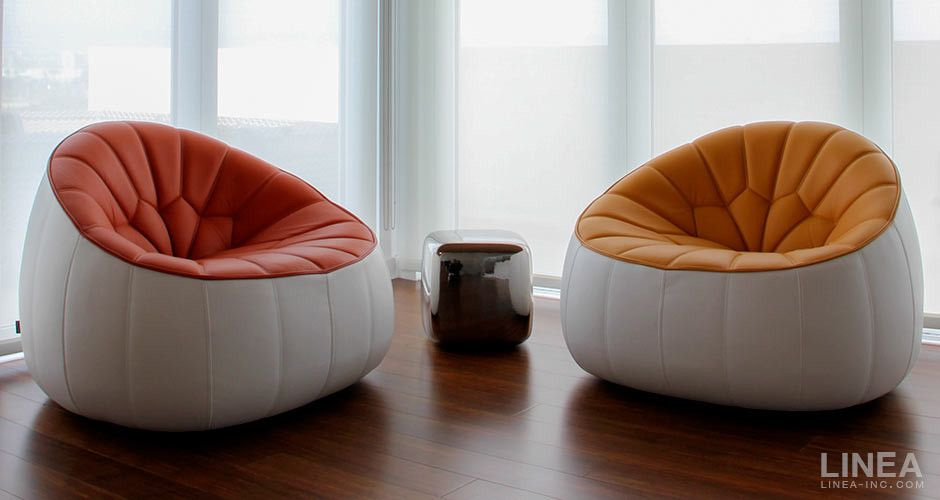chairs: (19, 119, 398, 425), (564, 111, 925, 409)
